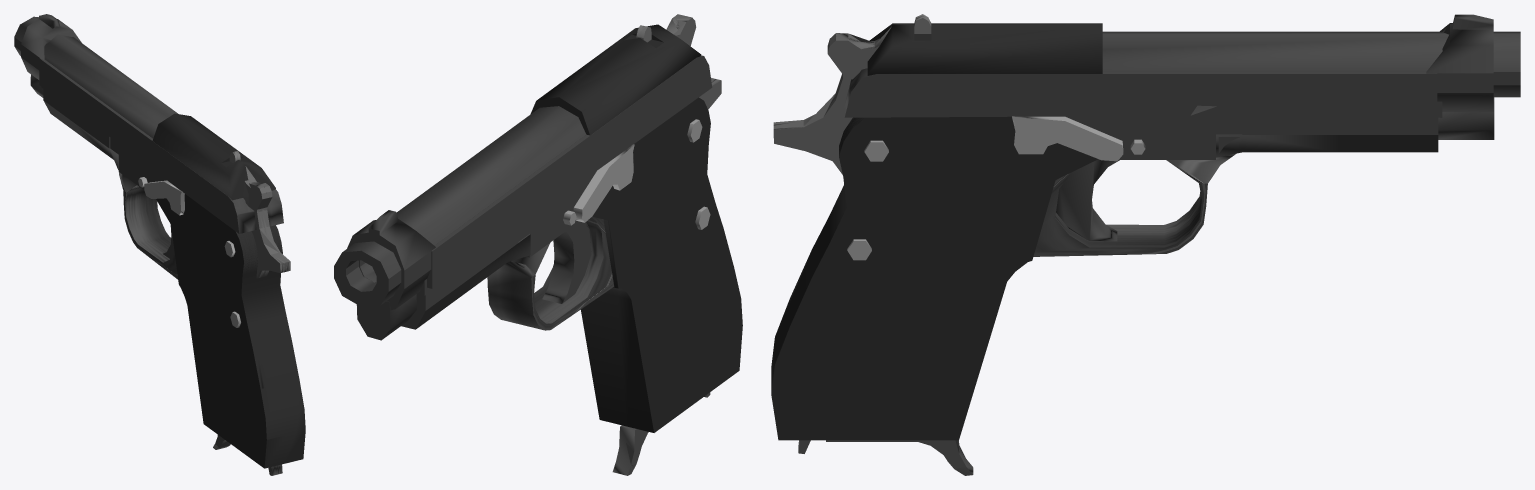
File: berettas.fbx
3 views of the same model, side by side, from view 1: azimuth 30°, elevation 25°; view 2: azimuth 150°, elevation 25°; view 3: azimuth 270°, elevation 25° (orthographic). The views are drawn at different scales.
Visible parts, largest first — view 1: berettas; view 2: berettas; view 3: berettas.
Boxes of the visible parts, box(x1,y1,x2,y2) form: berettas: box(14, 14, 305, 475); berettas: box(334, 14, 742, 475); berettas: box(771, 14, 1520, 475).
Size of the model in its own units: 5.2 by 32.63 by 48.54.
Materials: 19 (1 with a texture image).
